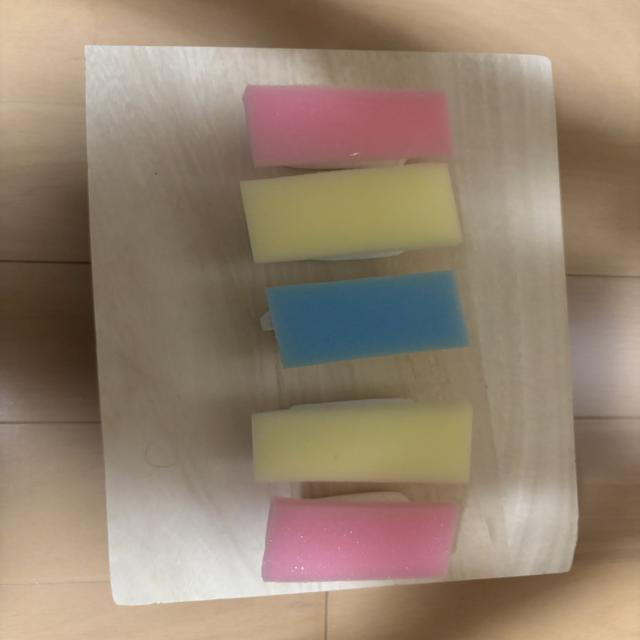ika: (266, 270, 469, 368)
tai: (243, 85, 453, 169), (262, 498, 458, 582)
tamago: (240, 163, 462, 263), (252, 399, 473, 484)
